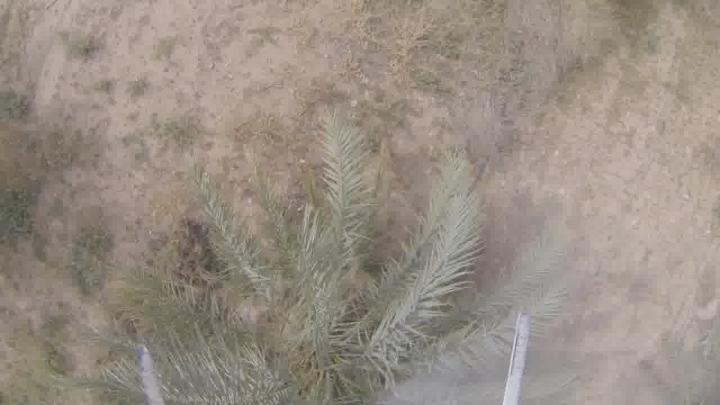Date-Palm-Crown: (196, 229, 452, 405)
